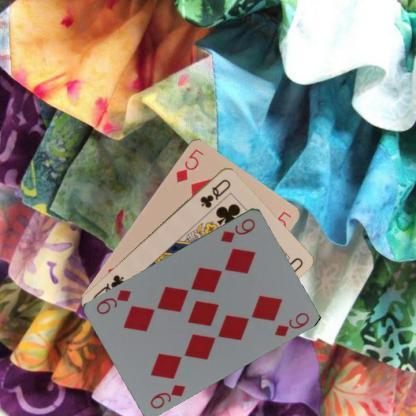5d: (173, 146, 205, 184)
9d: (218, 215, 258, 244), (148, 381, 188, 410)
Qc: (198, 176, 233, 210)
